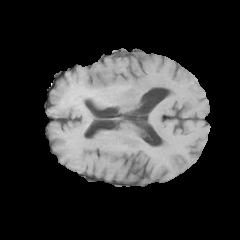glioma: (66, 61, 177, 121)
